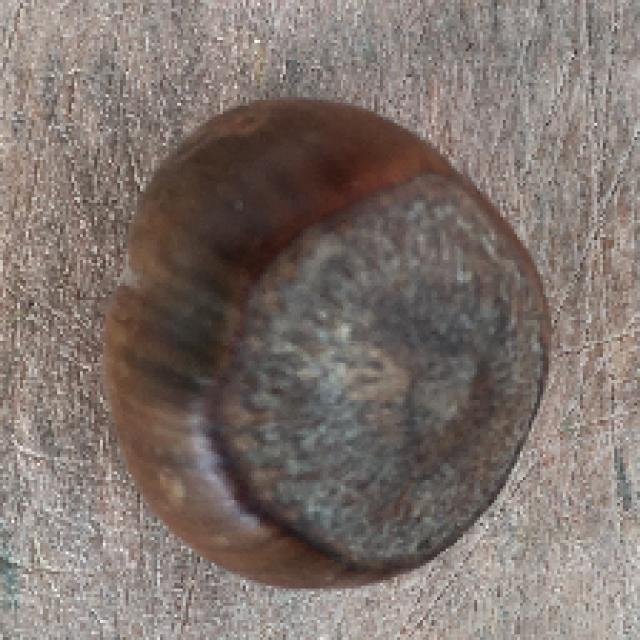DamagedHazelnut: (105, 96, 558, 596)
